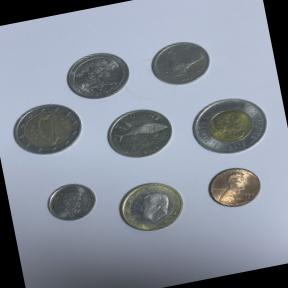coin: (179, 83, 278, 168), (108, 170, 197, 242), (97, 97, 182, 170), (6, 95, 88, 163), (60, 44, 136, 106), (198, 156, 270, 216), (38, 174, 103, 230)
